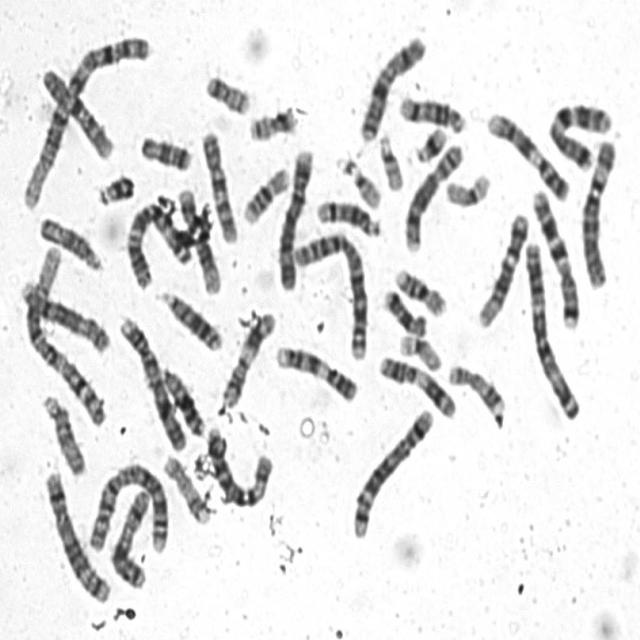A1: (17, 28, 153, 212), (18, 241, 109, 430)
A2: (287, 222, 370, 362), (83, 454, 172, 557)
A3: (520, 233, 582, 422), (120, 191, 195, 290)
B4: (114, 306, 190, 454), (272, 140, 314, 292)
B5: (345, 398, 436, 541), (38, 461, 112, 605)
C10: (35, 58, 115, 161), (196, 121, 240, 245)
C11: (216, 303, 277, 409), (373, 346, 459, 420)
C12: (472, 204, 531, 329), (173, 181, 223, 297)
C6: (575, 130, 619, 292), (202, 419, 275, 510)
C7: (526, 179, 582, 330), (542, 93, 616, 172)
C8: (14, 272, 112, 356), (398, 134, 466, 254)
C9: (481, 102, 572, 203), (271, 336, 359, 403)
D13: (154, 282, 225, 354), (154, 358, 208, 440)
D14: (393, 86, 468, 134), (312, 190, 384, 238)
D15: (36, 385, 88, 477), (32, 208, 104, 273)
E16: (238, 159, 292, 226), (389, 260, 448, 318)
E17: (158, 446, 212, 525), (443, 355, 507, 420)
E18: (378, 280, 428, 338), (134, 125, 194, 173)
F19: (394, 325, 444, 374), (440, 163, 492, 210)
F20: (243, 97, 300, 143), (200, 66, 252, 116)
G21: (409, 116, 448, 164), (94, 165, 136, 206)
G22: (332, 147, 383, 210), (373, 124, 406, 192)
X: (353, 26, 428, 144), (105, 481, 154, 591)
